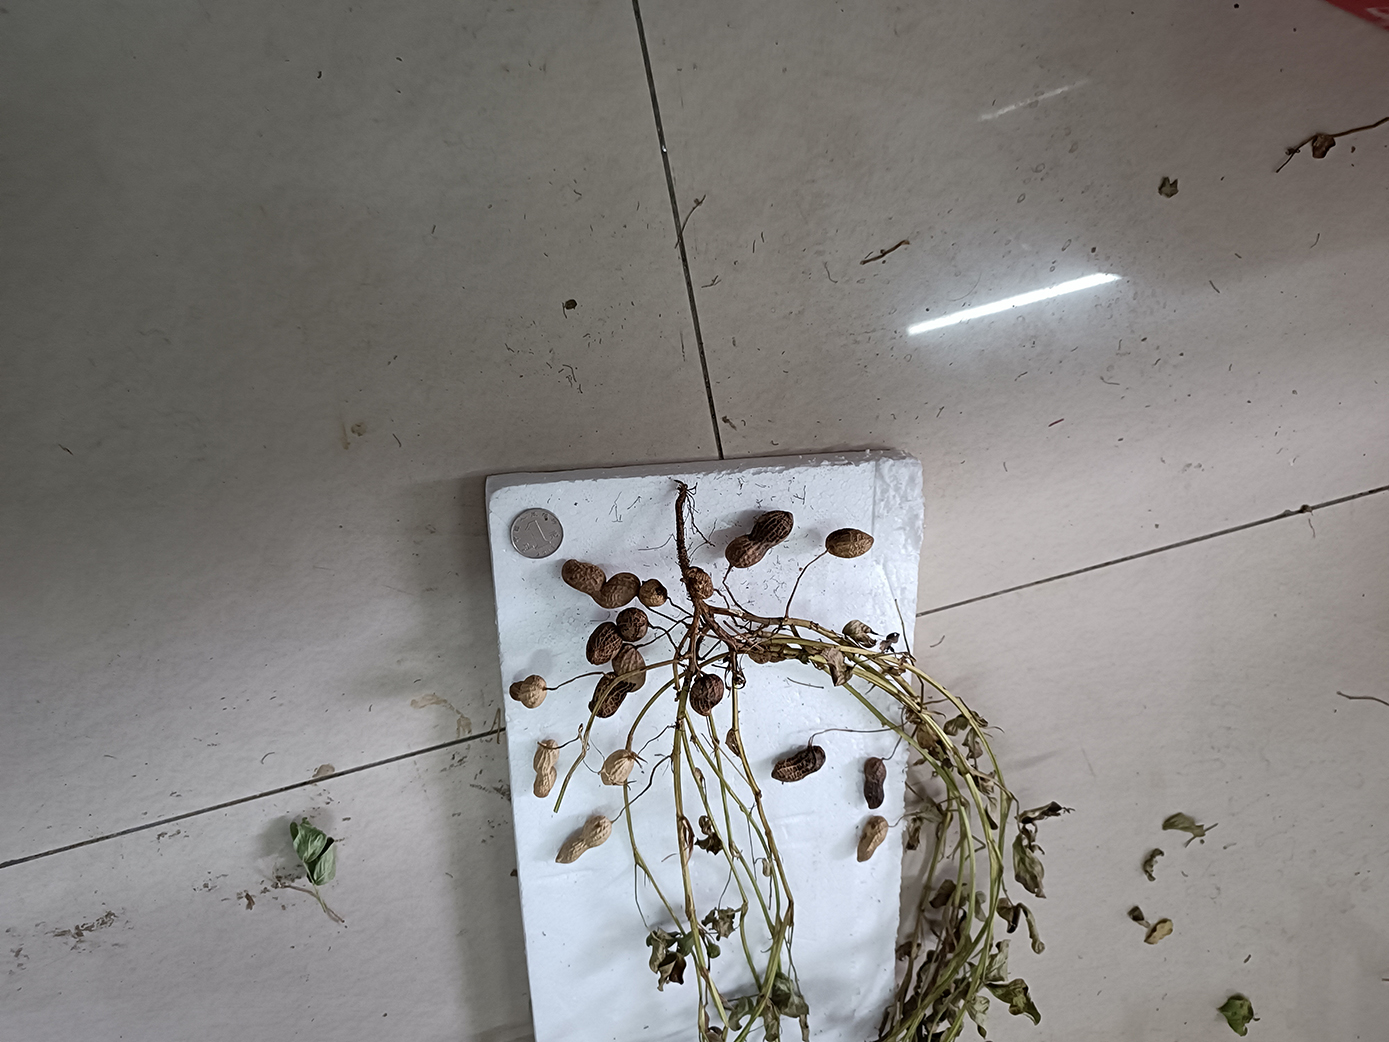h: (562, 559, 640, 610), (555, 815, 612, 864), (824, 528, 875, 559), (533, 738, 558, 798), (857, 815, 888, 862), (509, 674, 549, 709), (601, 749, 635, 785)
l: (588, 642, 647, 718), (724, 510, 792, 569), (587, 607, 649, 665), (771, 745, 826, 783), (688, 674, 725, 717), (864, 757, 887, 810), (686, 566, 714, 600), (639, 579, 668, 607)
